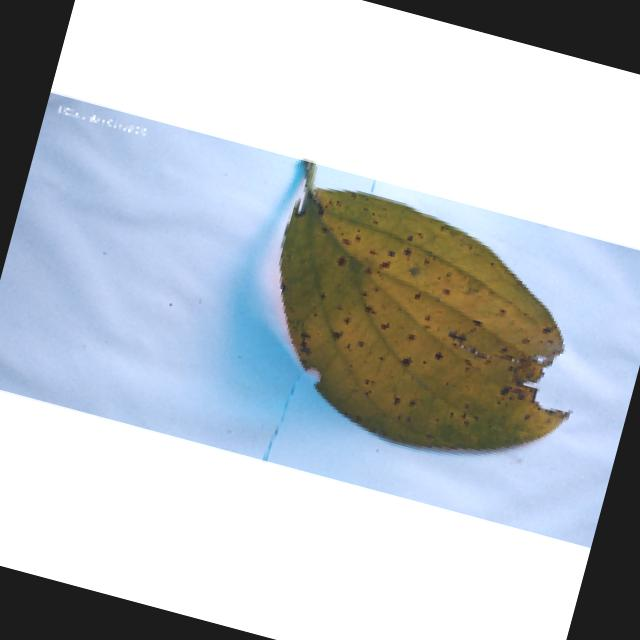slow-decline: (232, 163, 623, 494)
